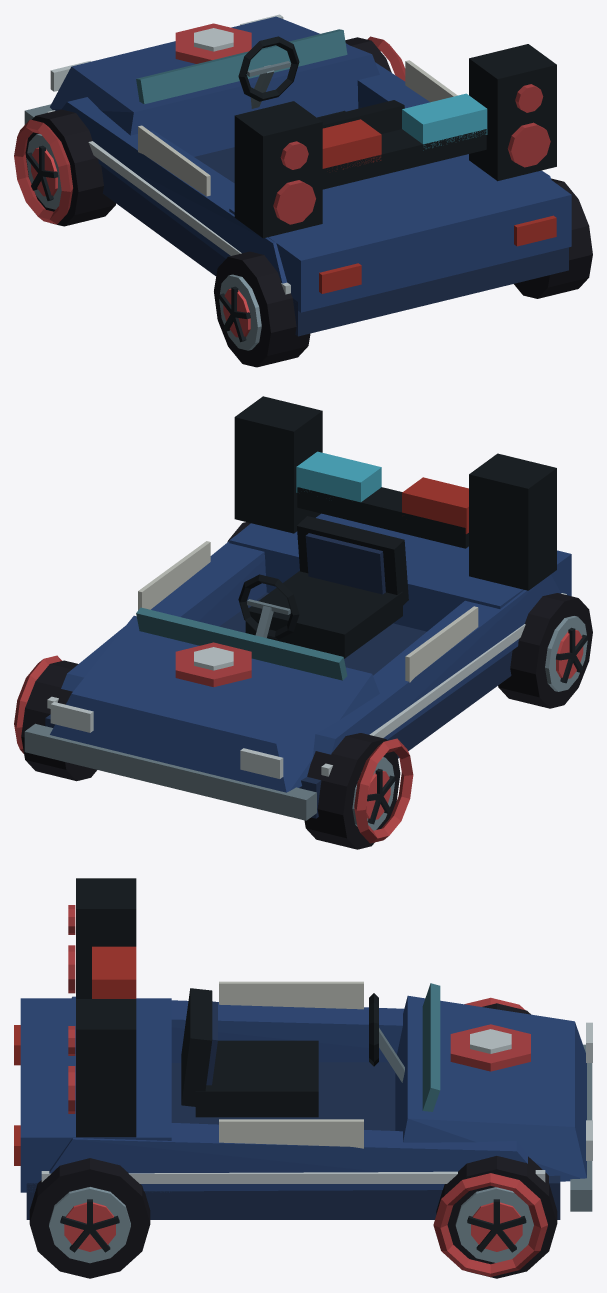
The model's file is kart.glb.
The picture shows the model from 3 angles, top to bottom: view 1: azimuth 30°, elevation 25°; view 2: azimuth 150°, elevation 25°; view 3: azimuth 270°, elevation 25°; orthographic projection. The views are drawn at different scales.
Parts seen in each view (by area): view 1: identity-police-car-police-car-road-car-body, identity-police-car-motif-speakers, wheel-rear-left, wheel-front-left, identity-police-car-motif-neon, identity-police-car-driver-cockpit, wheel-rear-right, identity-police-car-motif-badge, wheel-front-right; view 2: identity-police-car-police-car-road-car-body, identity-police-car-motif-speakers, identity-police-car-driver-cockpit, wheel-rear-left, wheel-front-left, identity-police-car-motif-neon, wheel-front-right, identity-police-car-motif-badge; view 3: identity-police-car-police-car-road-car-body, identity-police-car-motif-speakers, identity-police-car-driver-cockpit, wheel-rear-right, identity-police-car-motif-neon, wheel-front-right, identity-police-car-motif-badge.
Part boxes in pixels (x1,y1,x2,y2): identity-police-car-police-car-road-car-body: (24, 14, 571, 336); identity-police-car-motif-speakers: (234, 44, 556, 238); wheel-rear-left: (214, 251, 310, 367); wheel-front-left: (25, 109, 115, 226); identity-police-car-motif-neon: (14, 36, 405, 294); identity-police-car-driver-cockpit: (238, 36, 404, 133); wheel-rear-right: (514, 178, 592, 298); identity-police-car-motif-badge: (175, 23, 251, 63); wheel-front-right: (345, 37, 391, 72); identity-police-car-police-car-road-car-body: (24, 451, 571, 820); identity-police-car-motif-speakers: (234, 396, 556, 590); identity-police-car-driver-cockpit: (238, 516, 408, 658); wheel-rear-left: (498, 593, 592, 708); wheel-front-left: (304, 733, 400, 849); identity-police-car-motif-neon: (14, 593, 566, 843); wheel-front-right: (21, 660, 96, 781); identity-police-car-motif-badge: (175, 642, 251, 687); identity-police-car-police-car-road-car-body: (14, 946, 592, 1219); identity-police-car-motif-speakers: (68, 878, 136, 1137); identity-police-car-driver-cockpit: (181, 988, 404, 1117); wheel-rear-right: (29, 1158, 150, 1278); identity-police-car-motif-neon: (41, 997, 547, 1276); wheel-front-right: (436, 1156, 557, 1278); identity-police-car-motif-badge: (450, 1024, 530, 1071).
Bounding box in the file's own units: 2.13 × 1.33 × 2.88.
